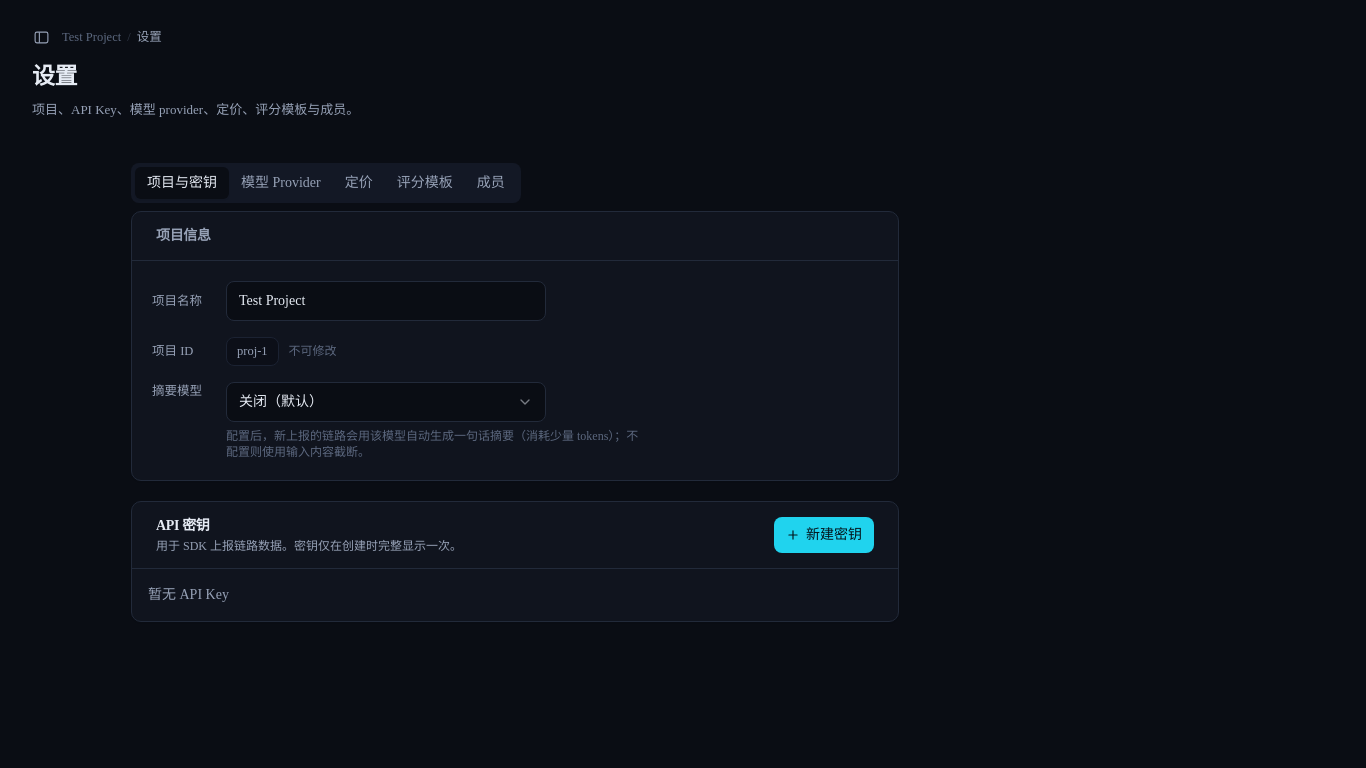
评分模板 tab › disables edit/delete for a non-creator member with a tooltip
Press the mouse on the tab "评分模板": (425,183) [385,167,465,199]
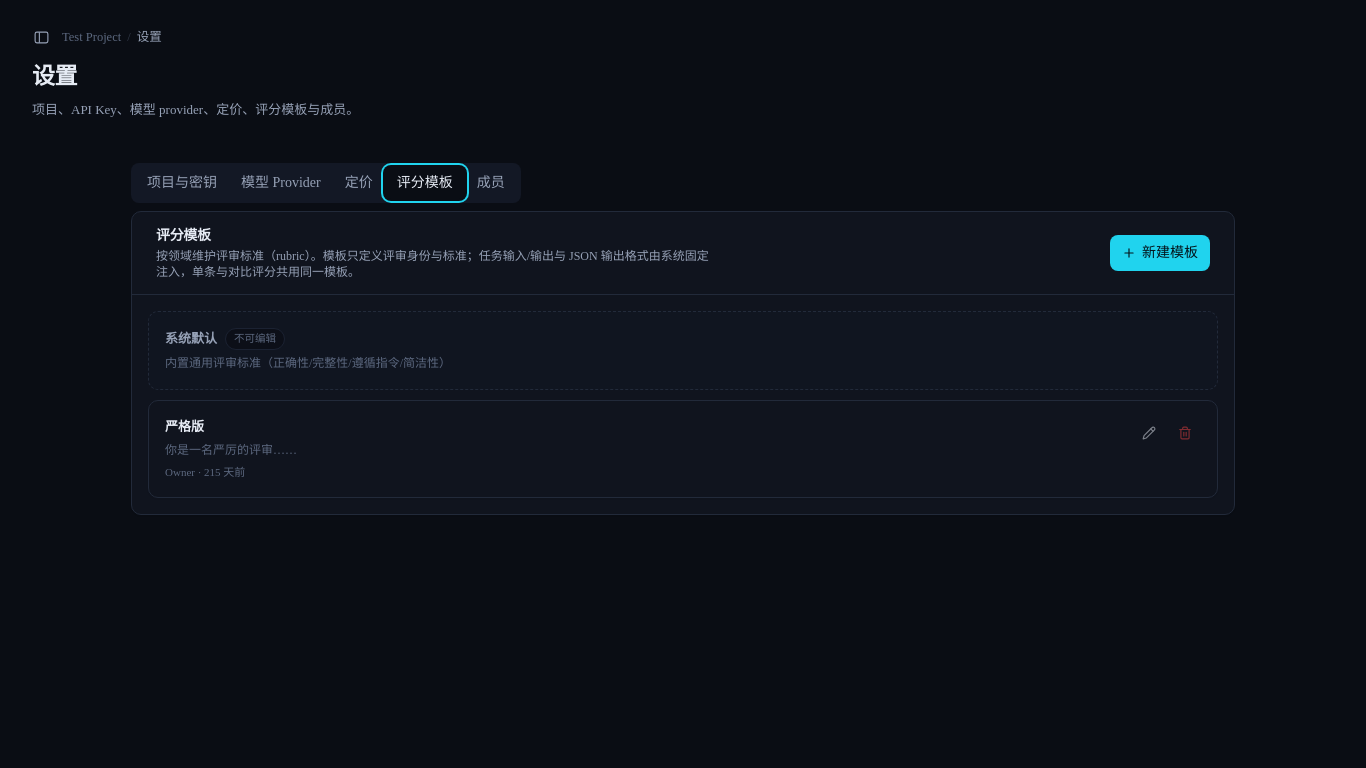
Expected: the text "严格版" is shown, [165,419,204,434]
Expected: the 3rd button is disabled, [1133,417,1165,449]
Expected: the 4th button is disabled, [1169,417,1201,449]
